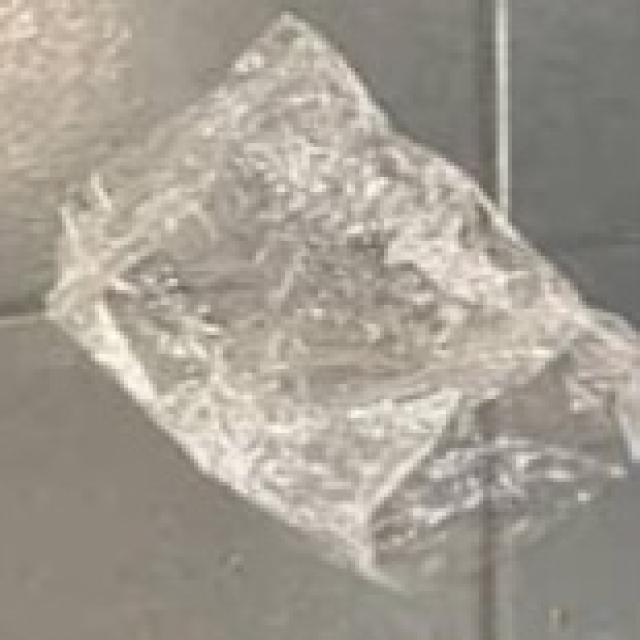plastic bag: (39, 0, 640, 579)
